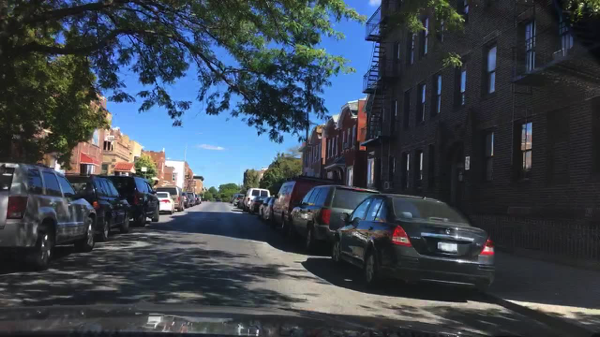car: (331, 193, 495, 297), (0, 162, 96, 270), (286, 186, 381, 250), (66, 173, 134, 242), (265, 176, 339, 235), (101, 176, 160, 227), (154, 185, 187, 212), (241, 188, 271, 213), (156, 192, 175, 216), (257, 197, 275, 220), (250, 196, 272, 214), (181, 192, 191, 209), (231, 193, 243, 207), (184, 192, 195, 207), (195, 192, 202, 205)
traffic sign: (140, 167, 148, 173)
